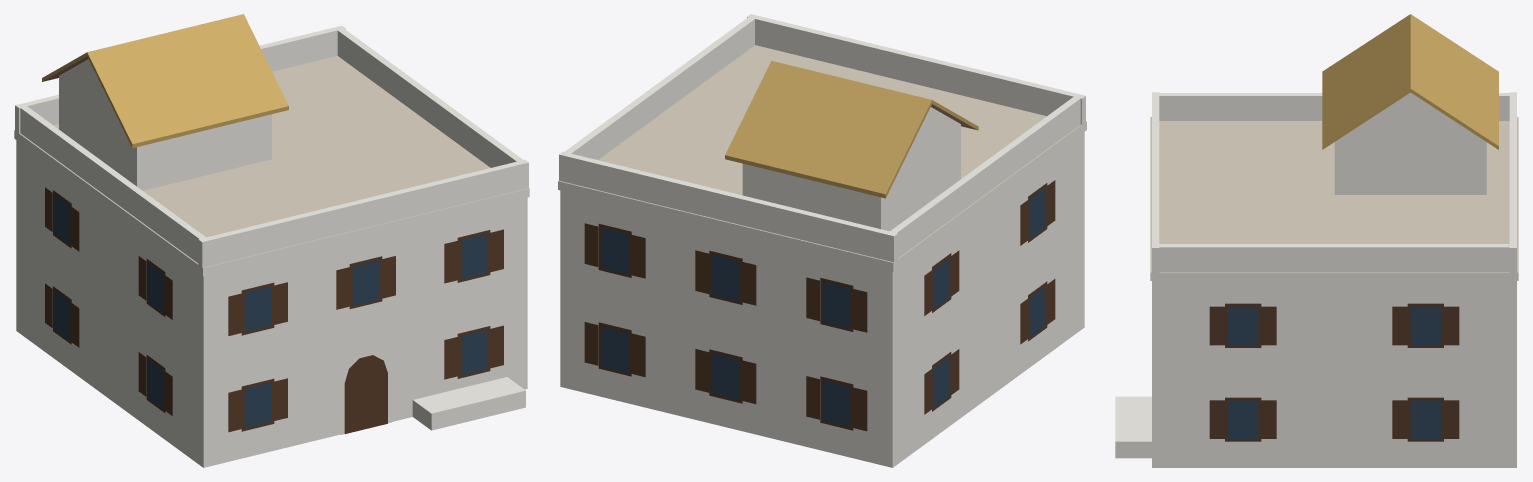
The model's file is maison_swahilie.glb.
The picture shows the model from 3 angles, left to right: view 1: azimuth 30°, elevation 25°; view 2: azimuth 150°, elevation 25°; view 3: azimuth 270°, elevation 25°; orthographic projection. The views are drawn at different scales.
Parts seen in each view (by area): view 1: maison_swahilie; view 2: maison_swahilie; view 3: maison_swahilie.
Part boxes in pixels (left/top/right/bottom): maison_swahilie: left=14, top=14, right=529, bottom=467; maison_swahilie: left=558, top=14, right=1086, bottom=467; maison_swahilie: left=1115, top=14, right=1518, bottom=467.
Size of the model in its own units: 12.1 by 11.14 by 13.25.
1 material, 1 textured.
